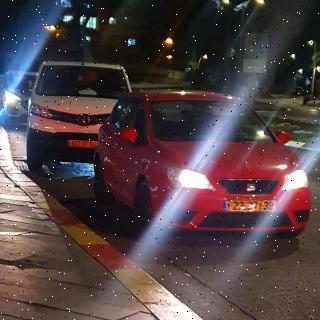LicensePlate: (230, 201, 276, 211), (70, 140, 98, 148)
